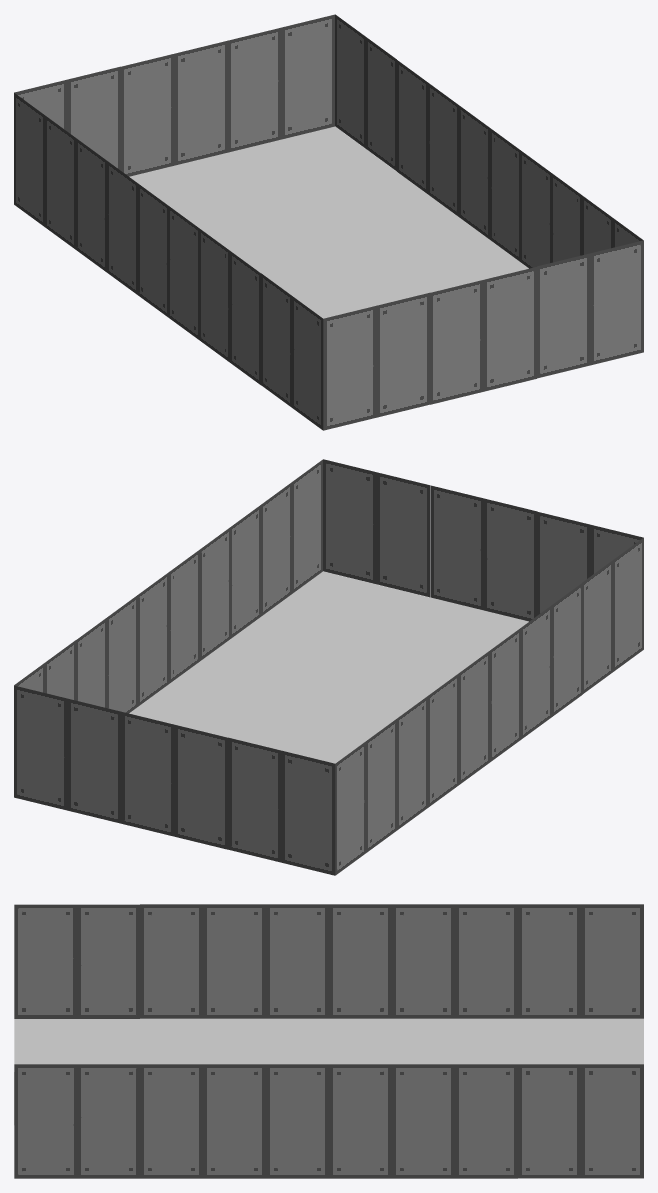
Rendered from salaretro.dae.
The picture shows the model from 3 angles, top to bottom: view 1: azimuth 30°, elevation 25°; view 2: azimuth 150°, elevation 25°; view 3: azimuth 270°, elevation 25°; orthographic projection.
Parts seen in each view (by area): view 1: Plane_008, Plane_019, Plane_007, Plane_011, Plane_012, Plane_009, Plane_018, Plane_016, Plane_001, Plane_002, Plane_005, Plane_015 (+4 smaller); view 2: Plane_011, Plane_018, Plane_008, Plane_012, Plane_015, Plane_019, Plane_006, Plane_007, Plane_016, Plane_001, Plane_002, Plane_005 (+4 smaller); view 3: Plane_019, Plane_011, Plane_016, Plane_015, Plane_012, Plane_009, Plane_008, Plane_005, Plane_002, Plane_001, Plane_017, Plane_004 (+2 smaller).
Boxes of the visible parts, box(x1,y1,x2,y2) form: Plane_008: box(228, 14, 396, 197); Plane_019: box(261, 273, 429, 430); Plane_007: box(121, 40, 288, 221); Plane_011: box(537, 195, 643, 378); Plane_012: box(352, 105, 520, 287); Plane_009: box(290, 60, 458, 242); Plane_018: box(430, 267, 536, 404); Plane_016: box(199, 228, 261, 385); Plane_001: box(137, 183, 199, 339); Plane_002: box(76, 138, 137, 294); Plane_005: box(14, 93, 75, 249); Plane_015: box(414, 150, 581, 294); Plane_011: box(261, 459, 429, 642); Plane_018: box(369, 485, 536, 666); Plane_008: box(14, 640, 121, 823); Plane_012: box(137, 550, 305, 732); Plane_015: box(199, 505, 367, 687); Plane_019: box(536, 511, 643, 693); Plane_006: box(228, 737, 335, 875); Plane_007: box(121, 711, 228, 849); Plane_016: box(520, 583, 582, 739); Plane_001: box(459, 628, 520, 784); Plane_002: box(397, 673, 458, 830); Plane_005: box(335, 719, 396, 875); Plane_019: box(14, 904, 140, 1064); Plane_011: box(14, 1064, 139, 1178); Plane_016: box(140, 904, 265, 1018); Plane_015: box(140, 1064, 265, 1178); Plane_012: box(266, 1064, 391, 1178); Plane_009: box(392, 1064, 517, 1178); Plane_008: box(518, 1064, 643, 1178); Plane_005: box(518, 904, 643, 1018); Plane_002: box(392, 904, 517, 1018); Plane_001: box(266, 904, 391, 1018); Plane_017: box(140, 1018, 265, 1064); Plane_004: box(518, 1018, 643, 1064).
Size of the model in its own units: 30.01 by 50.01 by 10.02.
Materials: 2 (1 with a texture image).
